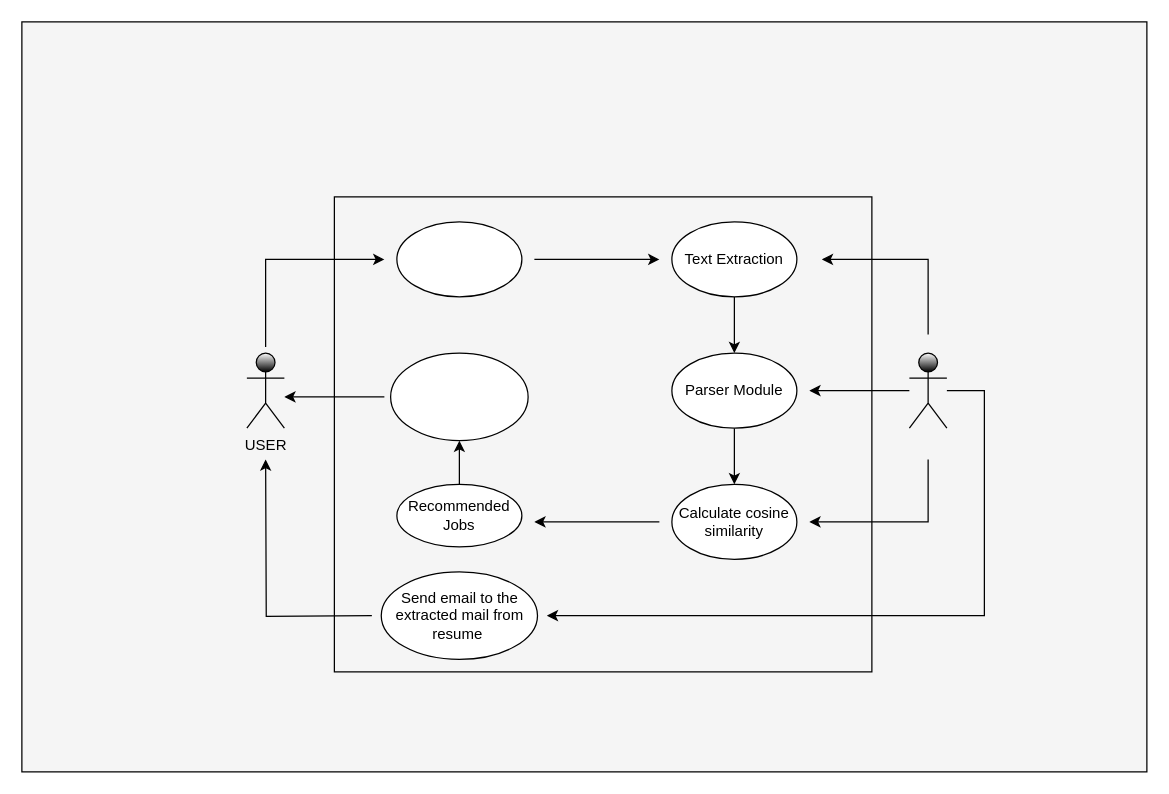
Image size: 1169x794. Some labels were removed from this diagram. Each missing label, with the centre of its shape:
"Show Recommended Jobs and extracted user info" goes at (x=458, y=396).
"SYSTEM" goes at (x=927, y=390).
"Upload Resume" goes at (x=459, y=259).
